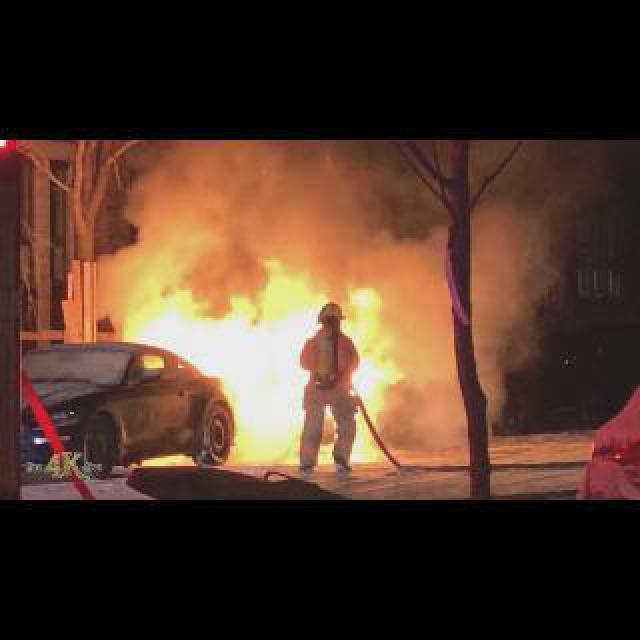smoke: (128, 260, 322, 466), (340, 284, 394, 464)
